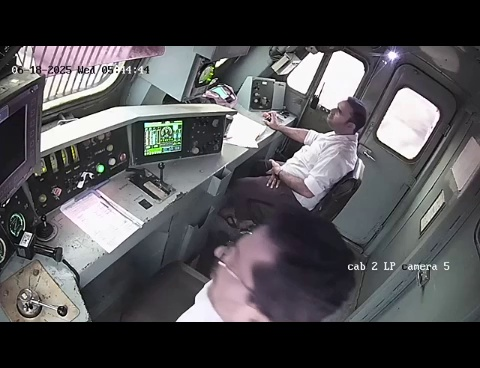brake_released: (1, 256, 105, 322)
horn_inactive: (25, 209, 68, 245)
